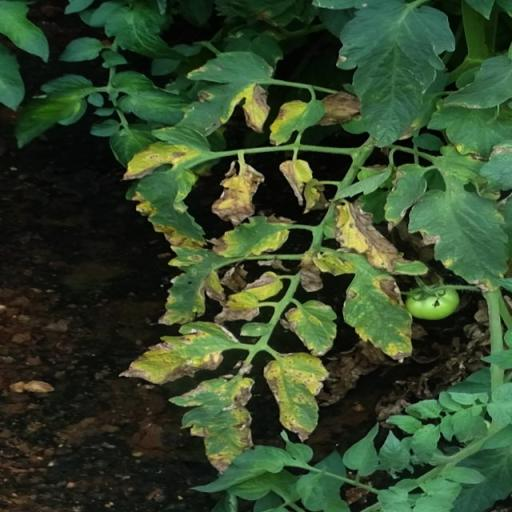Early Blight: (312, 250, 418, 364), (122, 128, 214, 252), (408, 188, 510, 293), (176, 51, 277, 140), (168, 378, 254, 478), (117, 318, 237, 386), (261, 354, 327, 444), (154, 254, 232, 328), (268, 97, 328, 150), (284, 302, 336, 358)
